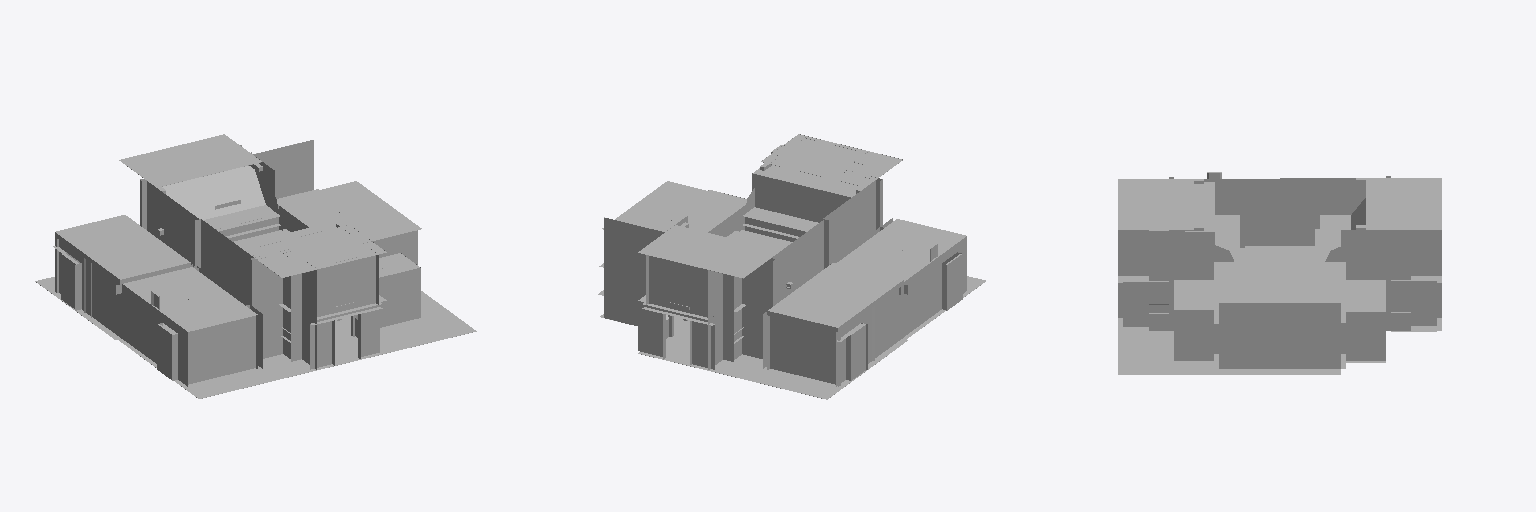
The model's file is CK_RZ_LCZ.obj.
3 renders of one model, left to right at view 1: azimuth 30°, elevation 25°; view 2: azimuth 150°, elevation 25°; view 3: azimuth 270°, elevation 25°, orthographic.
Parts seen in each view (by area): view 1: grp6, grp16, grp1, grp8, grp14, grp20, grp10; view 2: grp8, grp16, grp1, grp6, grp20, grp10, grp14; view 3: grp8, grp16, grp6, grp1, grp20, grp7, grp14, grp5.
Boxes of the visible parts, box(x1,y1,x2,y2) form: grp6: box(119, 219, 424, 386); grp16: box(55, 134, 421, 283); grp1: box(35, 253, 476, 398); grp8: box(55, 140, 360, 339); grp14: box(84, 154, 356, 336); grp20: box(248, 225, 386, 277); grp10: box(61, 254, 173, 380); grp8: box(599, 153, 907, 386); grp16: box(602, 165, 903, 331); grp1: box(598, 190, 985, 399); grp6: box(712, 137, 970, 339); grp20: box(761, 134, 902, 185); grp10: box(848, 254, 962, 380); grp14: box(667, 154, 937, 363); grp8: box(1169, 176, 1441, 371); grp16: box(1185, 178, 1441, 309); grp6: box(1118, 177, 1279, 368); grp1: box(1118, 215, 1441, 374); grp20: box(1118, 179, 1193, 229); grp7: box(1149, 309, 1218, 360); grp14: box(1169, 172, 1388, 265); grp5: box(1245, 248, 1314, 261).
Bounding box in the file's own units: 2048 × 705 × 2048.